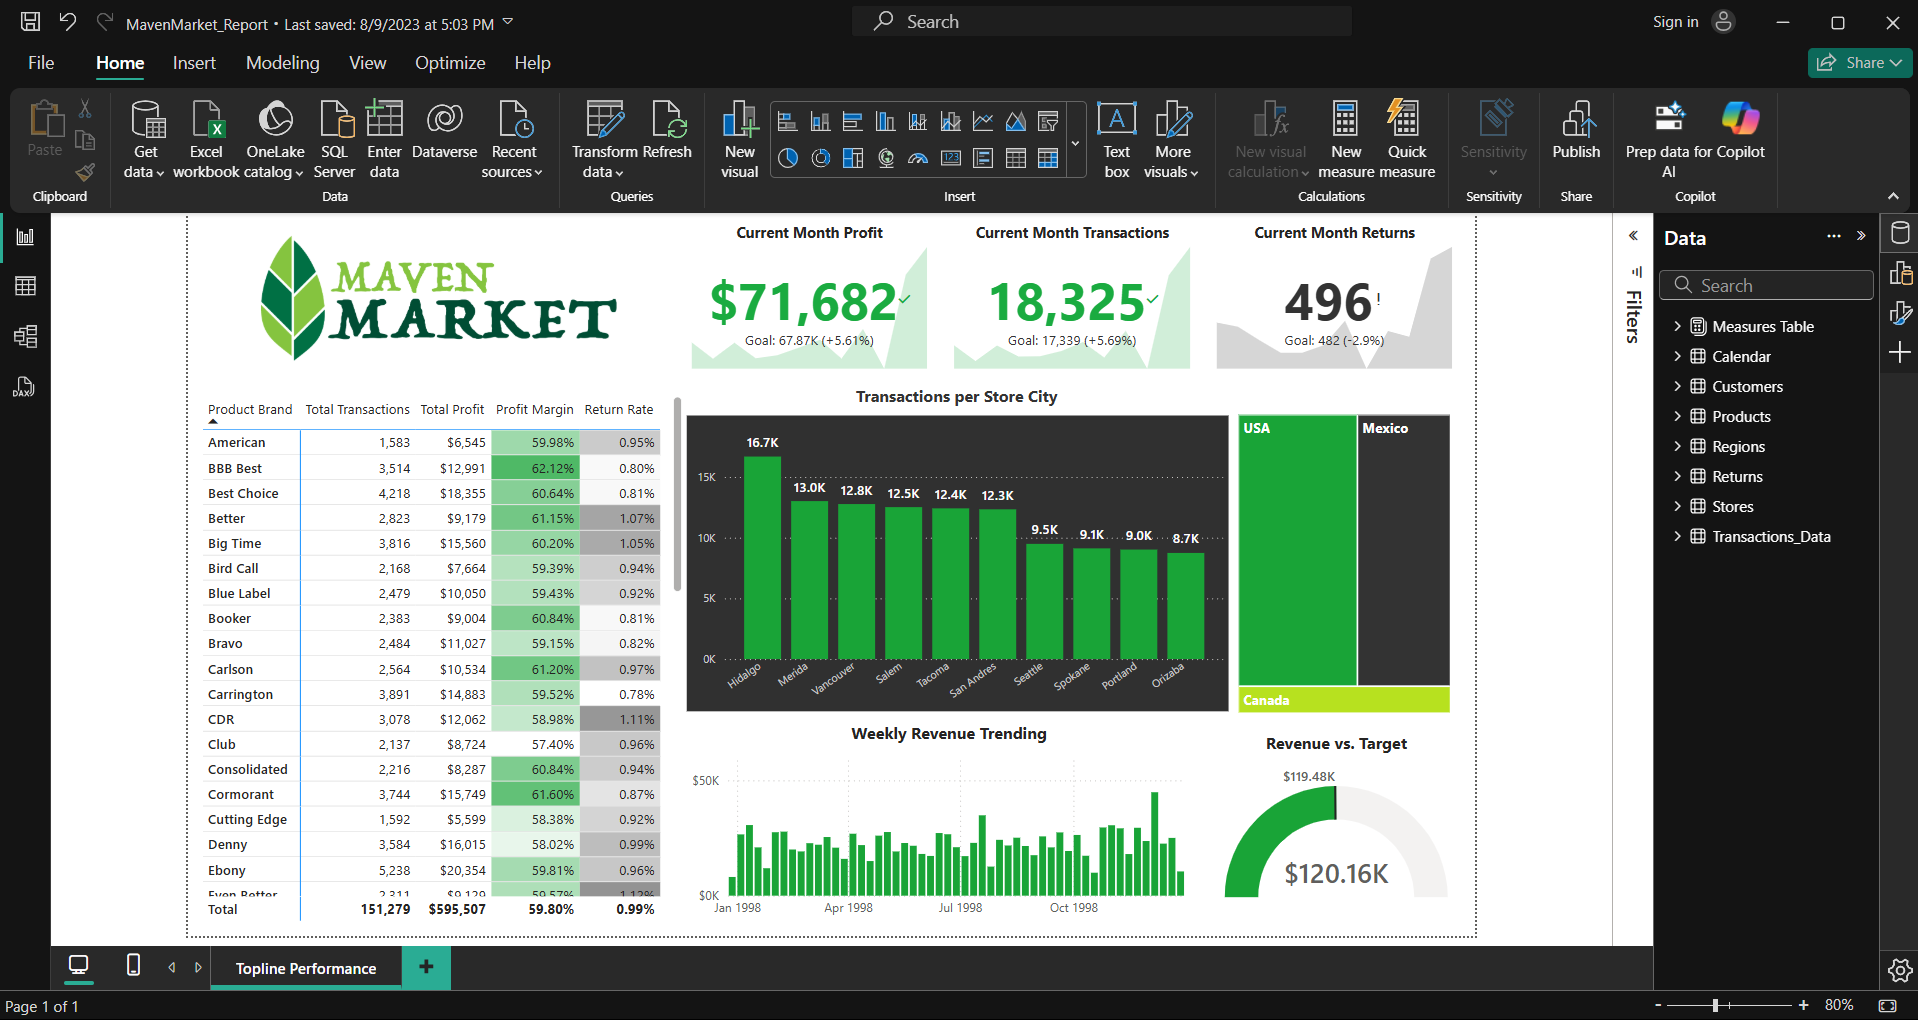

What the dashboard file says about the page in this screenshot:
{"tool":"powerbi","page":{"name":"Topline Performance","canvas":[1280,720],"ordinal":0},"visuals":[{"type":"image","box":[9.8,8.6,476.7,151.6],"z":0},{"type":"kpi","title":"Current Month Profit","fields":{"Indicator":["Measures Table.Total Profit"],"TrendLine":["Calendar.Start of Month"],"Goal":["Measures Table.Last Month Profit"]},"box":[496.3,8.6,244.5,151.6],"z":1000},{"type":"pivotTable","fields":{"Values":["Measures Table.Total Transactions","Measures Table.Total Profit","Measures Table.Profit Margin","Measures Table.Return Rate"],"Rows":["Products.product_brand"]},"box":[9.8,178.5,486.5,531.7],"z":2000},{"type":"columnChart","title":"Transactions by Store City","fields":{"Category":["Stores.store_city"],"Y":["Measures Table.Total Transactions"]},"box":[496.3,201.7,539.1,294.6],"z":3000},{"type":"treemap","fields":{"Group":["Stores.store_country"],"Values":["Measures Table.Total Profit"]},"box":[1035.2,189.9,231,317],"z":4000},{"type":"columnChart","title":"Weekly Revenue Trending","fields":{"Category":["Calendar.Start of Week"],"Y":["Measures Table.Total Revenue"]},"box":[496.1,506.9,522.1,203.3],"z":5000},{"type":"gauge","title":"Revenue vs. Target","fields":{"Y":["Measures Table.Total Revenue"],"TargetValue":["Measures Table.Revenue Target"]},"box":[1018.2,515.8,248.1,170.1],"z":6000},{"type":"kpi","title":"Current Month Transactions","fields":{"TrendLine":["Calendar.Start of Month"],"Indicator":["Measures Table.Total Transactions"],"Goal":["Measures Table.Last Month Transactions"]},"box":[757,8.6,245,151.6],"z":7000},{"type":"kpi","title":"Current Month Returns","fields":{"TrendLine":["Calendar.Start of Month"],"Indicator":["Measures Table.Total Returns"],"Goal":["Measures Table.Last Month Returns"]},"box":[1018.3,8.6,244.5,151.6],"z":8000},{"type":"textbox","box":[495.2,165.7,540,34.9],"z":9000}]}

Visuals, with their boxes on the page's 1280x720 design canvas (x1, y1, x2, y2). These are canvas units, not pixel positions in the 1918x1020 screenshot, which may show the page scaled, cropped or inside an application window:
image: <box>10,9,486,160</box>
"Current Month Profit" kpi: <box>496,9,741,160</box>
pivotTable - Measures Table.Total Transactions x Measures Table.Total Profit: <box>10,178,496,710</box>
"Transactions by Store City" columnChart: <box>496,202,1035,496</box>
treemap - Stores.store_country x Measures Table.Total Profit: <box>1035,190,1266,507</box>
"Weekly Revenue Trending" columnChart: <box>496,507,1018,710</box>
"Revenue vs. Target" gauge: <box>1018,516,1266,686</box>
"Current Month Transactions" kpi: <box>757,9,1002,160</box>
"Current Month Returns" kpi: <box>1018,9,1263,160</box>
textbox: <box>495,166,1035,201</box>
